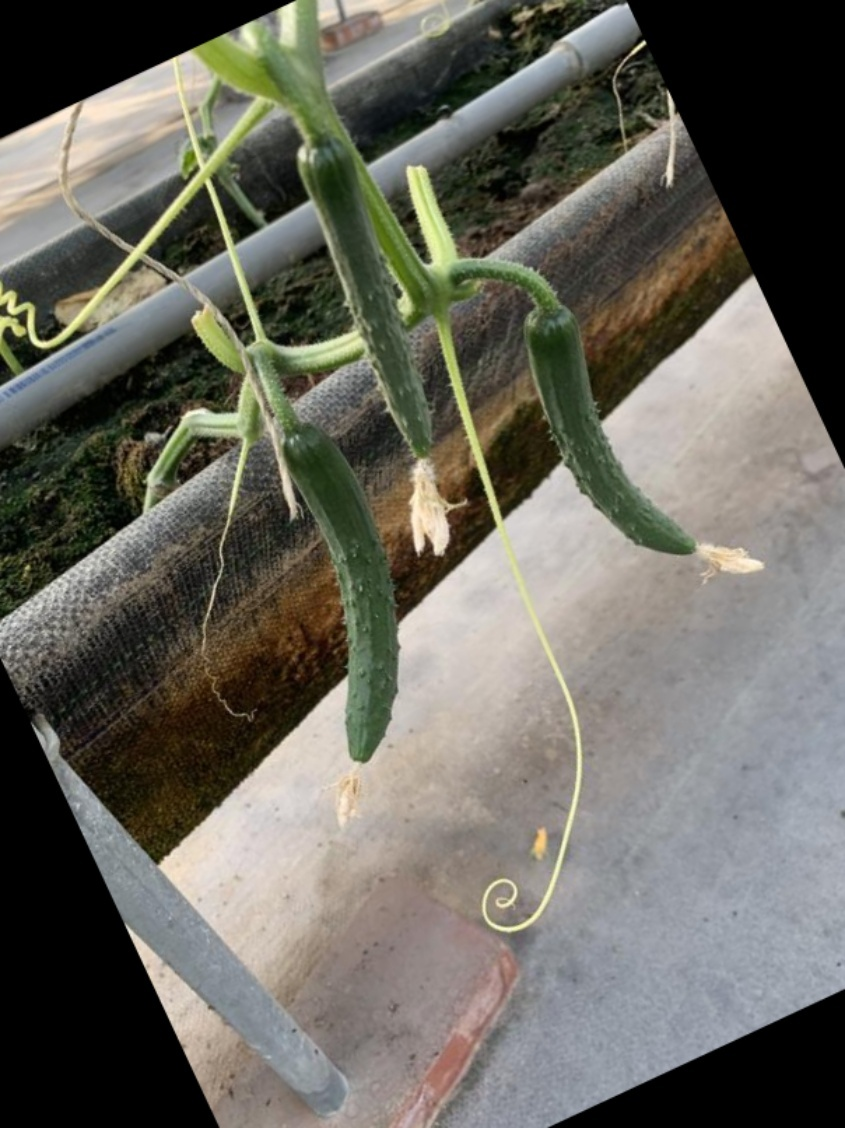growth: (295, 135, 441, 460)
mature: (277, 421, 410, 805)
